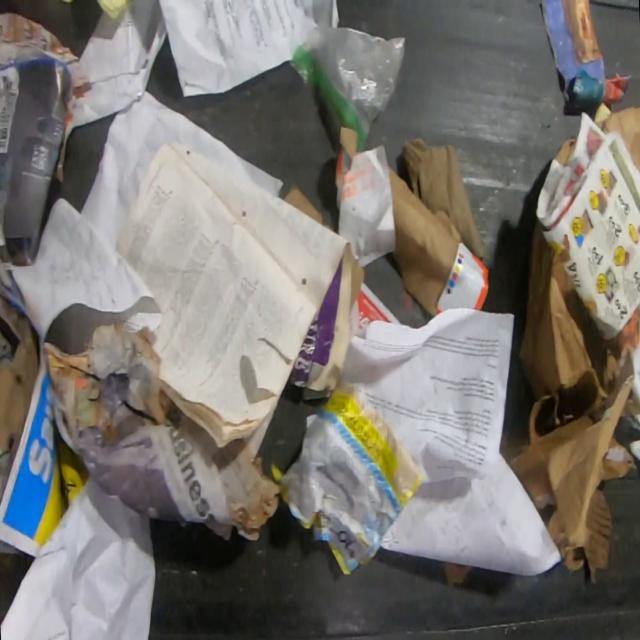cardboard: (500, 216, 639, 588), (388, 163, 490, 318), (286, 240, 367, 393), (402, 136, 483, 260), (0, 291, 39, 456), (282, 181, 339, 234), (600, 106, 640, 174), (333, 128, 359, 188), (444, 560, 474, 588), (554, 137, 578, 167)
soft_plastic: (290, 22, 407, 152)
